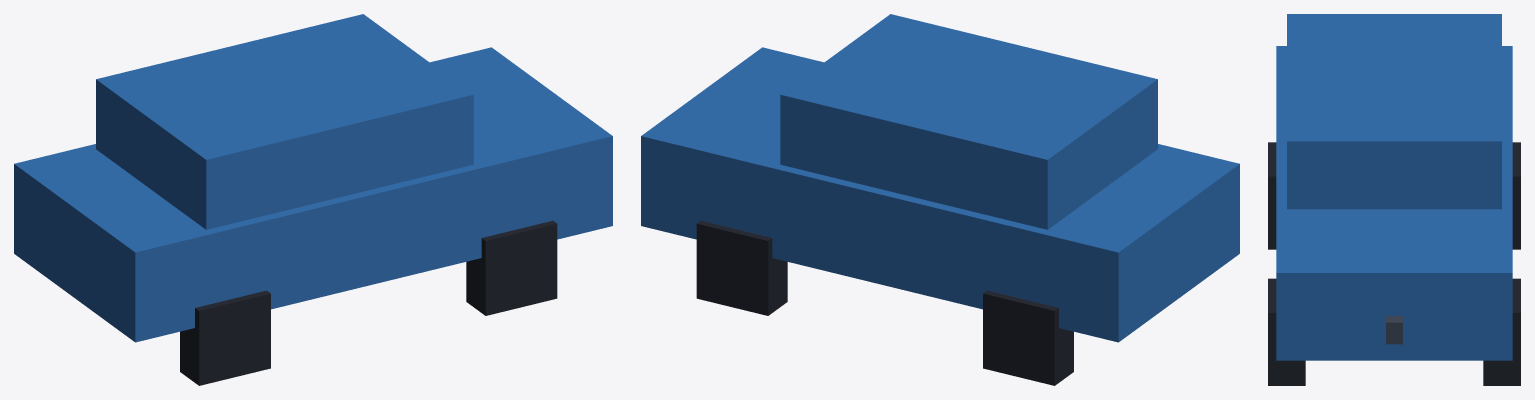
The model's file is parkedCarBlue.glb.
3 renders of one model, left to right at view 1: azimuth 30°, elevation 25°; view 2: azimuth 150°, elevation 25°; view 3: azimuth 270°, elevation 25°, orthographic. The views are drawn at different scales.
Visible parts, largest first — view 1: parkedCarBlue_blue, parkedCarBlue_black; view 2: parkedCarBlue_blue, parkedCarBlue_black; view 3: parkedCarBlue_blue, parkedCarBlue_black, parkedCarBlue_steelDark.
Part boxes in pixels (x1,y1,x2,y2): parkedCarBlue_blue: (14,14,612,342); parkedCarBlue_black: (180,220,557,385); parkedCarBlue_blue: (641,14,1239,342); parkedCarBlue_black: (696,220,1073,385); parkedCarBlue_blue: (1276,14,1512,360); parkedCarBlue_black: (1268,142,1520,385); parkedCarBlue_steelDark: (1386,316,1402,344).
Size of the model in its own units: 5.15 by 2.15 by 2.35.
